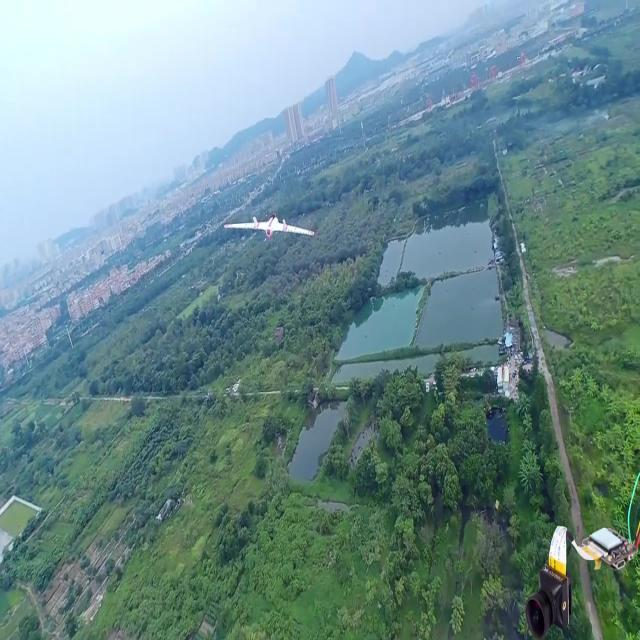iha: (255, 212, 283, 238)
